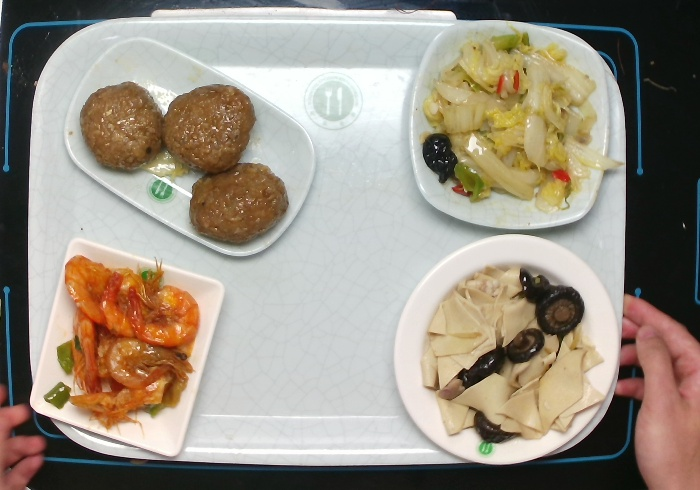WCQzf-Bai_Se_Si_Fang_Die: (26, 234, 228, 462)
WCQzf-Da_Si_Fang_Die: (404, 16, 615, 234)
WCQzf-Kuan_Bian_Yuan_Die: (390, 231, 623, 468)
WCQzf-Tuo_Yuan_Pan: (58, 32, 320, 259)
